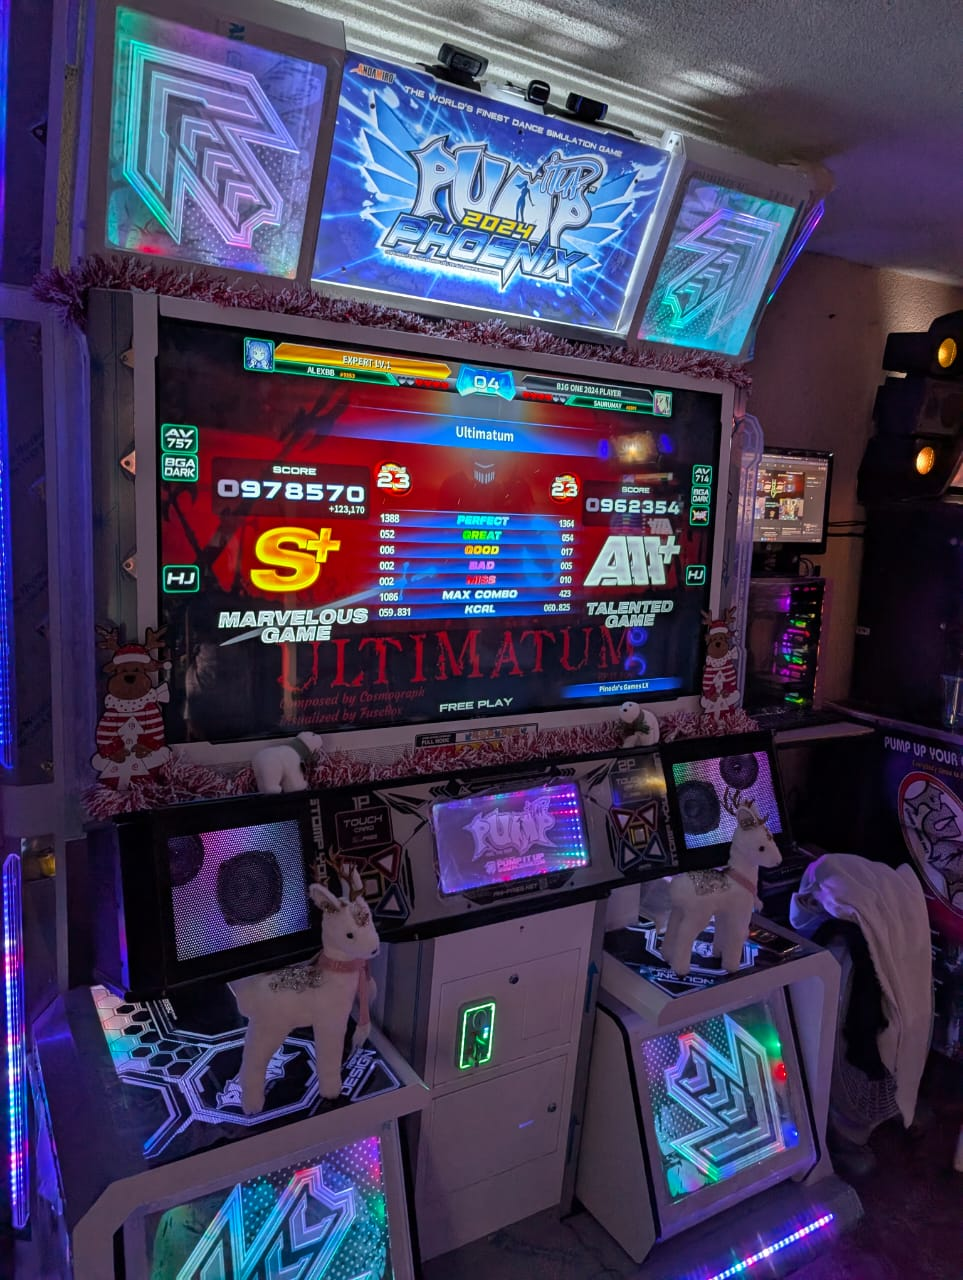difficulty: (379, 460, 426, 500)
fullscore: (147, 323, 710, 727)
rank: (248, 520, 362, 598)
score: (205, 460, 371, 509)
song_name: (411, 416, 583, 462)
